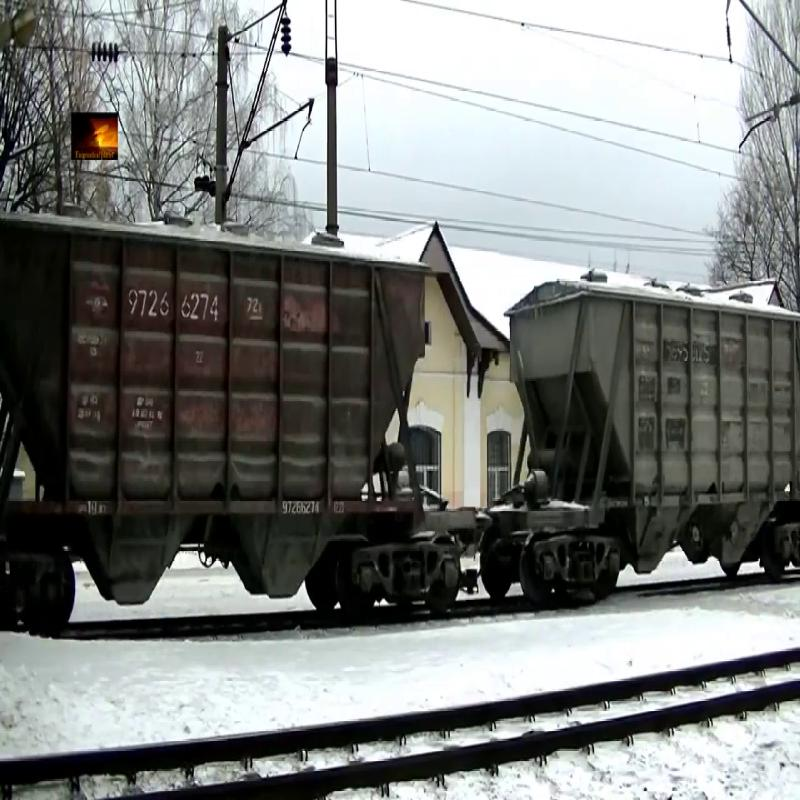train: (1, 221, 450, 629), (507, 281, 800, 612)
